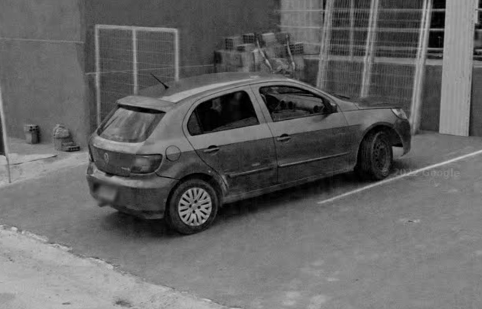car: (83, 66, 419, 240)
